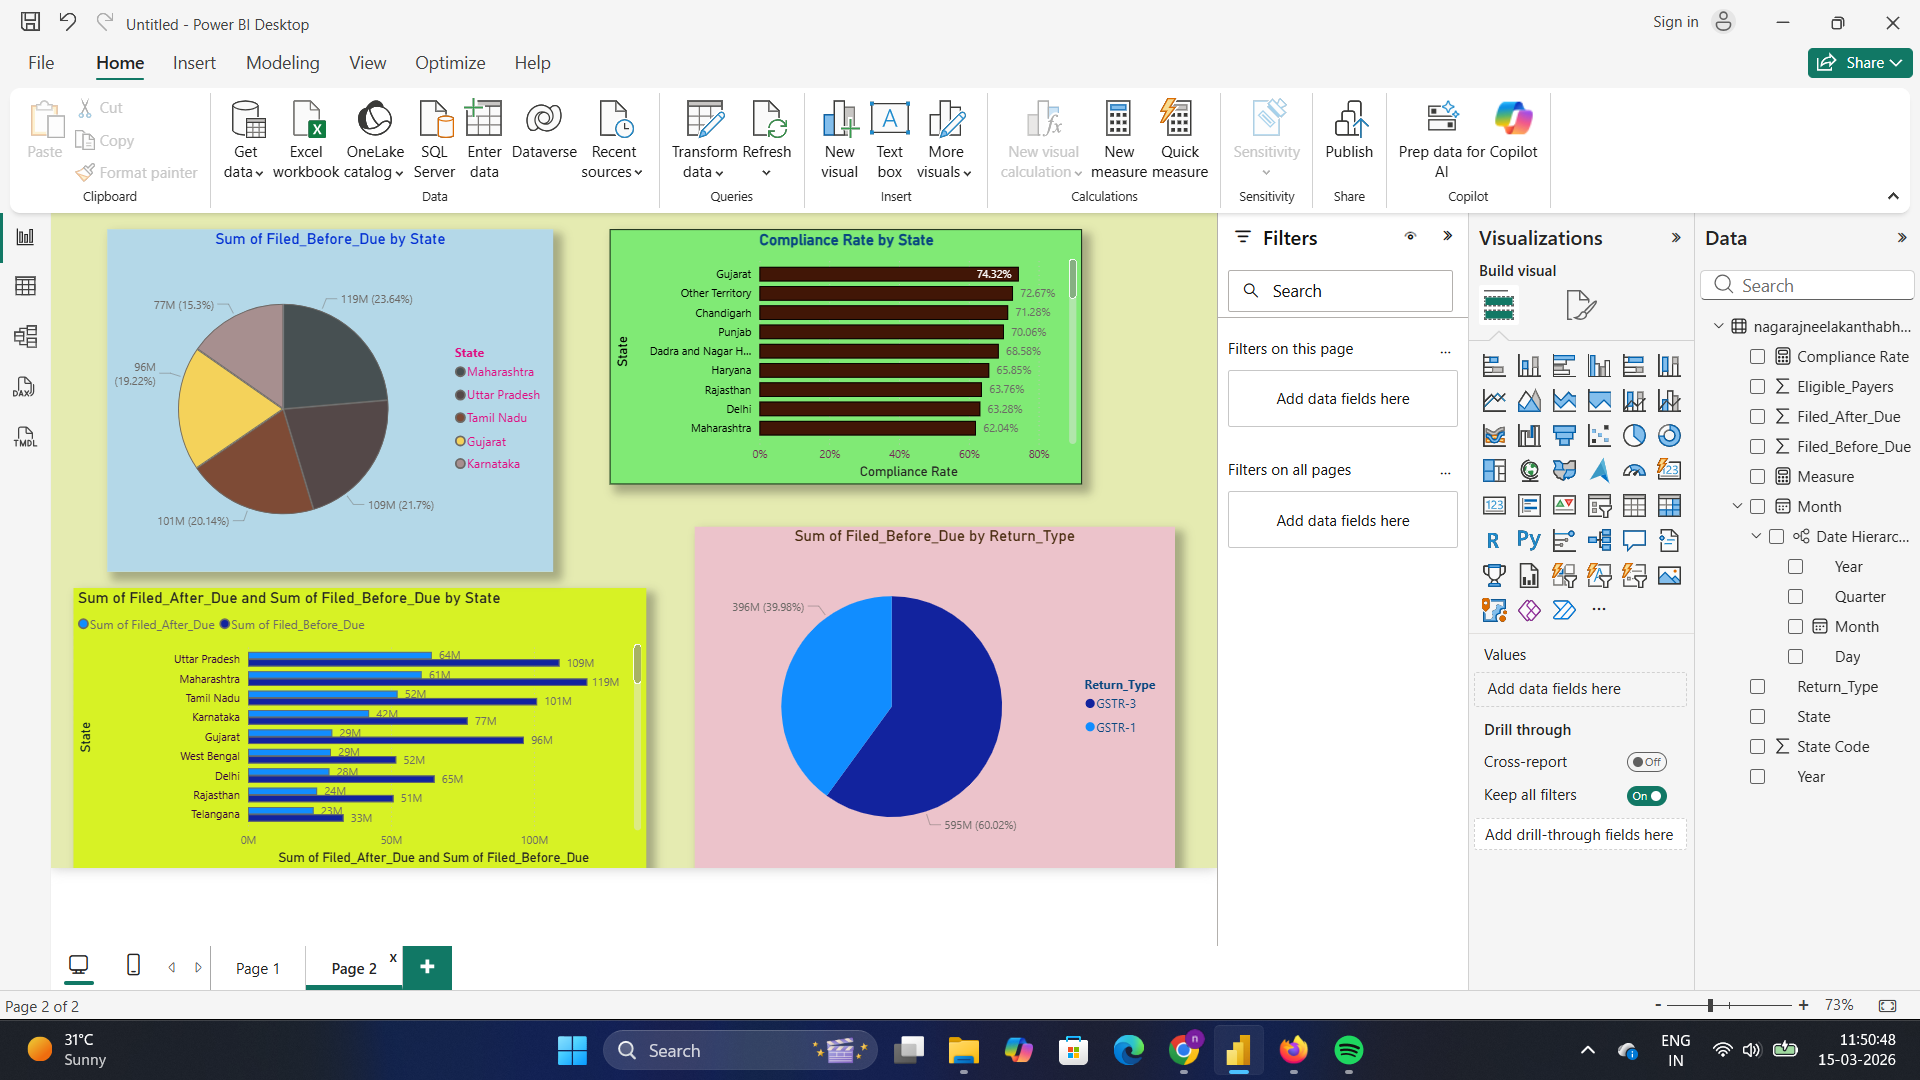

Layout of this report page (visuals, bound fields, positions):
{"tool":"powerbi","page":{"name":"Page 2","canvas":[1280,720],"ordinal":1},"visuals":[{"type":"clusteredBarChart","fields":{"Category":["nagarajneelakanthabhat_17735387173823302.State"],"Y":["Sum(nagarajneelakanthabhat_17735387173823302.Filed_After_Due)","Sum(nagarajneelakanthabhat_17735387173823302.Filed_Before_Due)"]},"box":[24.7,411.7,628.5,308.7],"z":0},{"type":"clusteredBarChart","fields":{"Category":["nagarajneelakanthabhat_17735387173823302.State"],"Y":["nagarajneelakanthabhat_17735387173823302.Compliance Rate"]},"box":[613.4,17.8,518.7,279.9],"z":1},{"type":"pieChart","fields":{"Category":["nagarajneelakanthabhat_17735387173823302.State"],"Y":["Sum(nagarajneelakanthabhat_17735387173823302.Filed_Before_Due)"]},"box":[61.7,17.8,489.9,376],"z":2},{"type":"pieChart","fields":{"Category":["nagarajneelakanthabhat_17735387173823302.Return_Type"],"Y":["Sum(nagarajneelakanthabhat_17735387173823302.Filed_Before_Due)"]},"box":[706.7,344.4,526.9,376],"z":3}]}

Visuals, with their boxes on the page's 1280x720 design canvas (x1, y1, x2, y2). These are canvas units, not pixel positions in the 1920x1080 screenshot, which may show the page scaled, cropped or inside an application window:
clusteredBarChart - nagarajneelakanthabhat_17735387173823302.State x Sum(nagarajneelakanthabhat_17735387173823302.Filed_After_Due): [25, 412, 653, 720]
clusteredBarChart - nagarajneelakanthabhat_17735387173823302.State x nagarajneelakanthabhat_17735387173823302.Compliance Rate: [613, 18, 1132, 298]
pieChart - nagarajneelakanthabhat_17735387173823302.State x Sum(nagarajneelakanthabhat_17735387173823302.Filed_Before_Due): [62, 18, 552, 394]
pieChart - nagarajneelakanthabhat_17735387173823302.Return_Type x Sum(nagarajneelakanthabhat_17735387173823302.Filed_Before_Due): [707, 344, 1234, 720]
